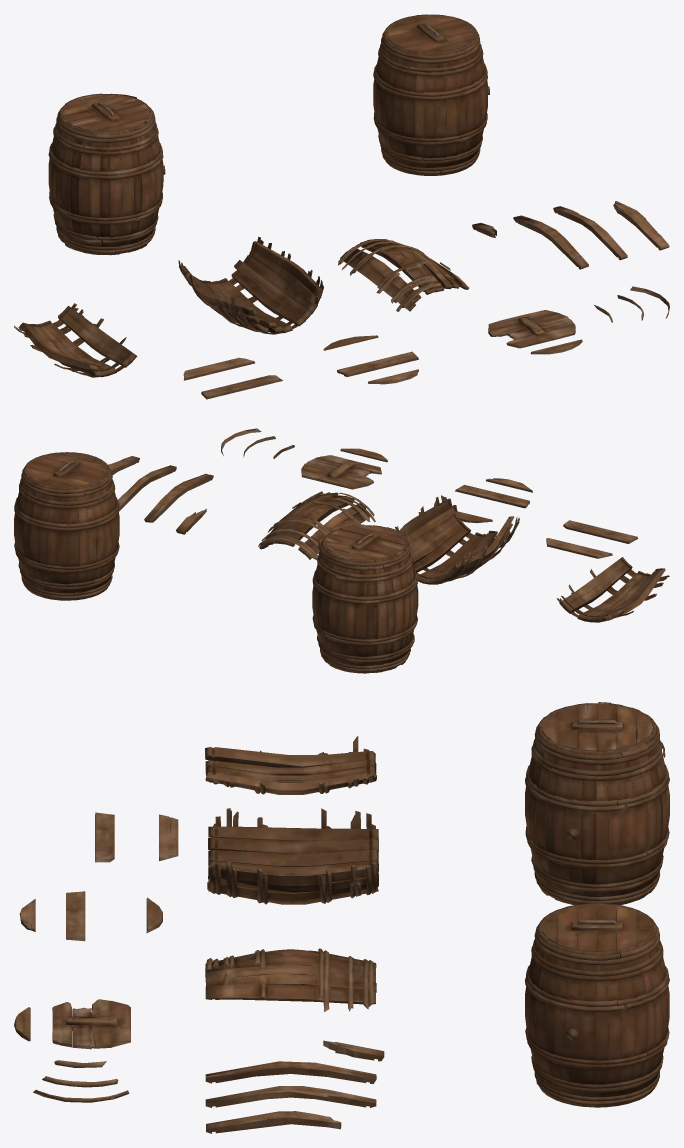
Rendered from wooden_barrels_01_lod1.glb.
3 views of the same model, one above another, from view 1: azimuth 30°, elevation 25°; view 2: azimuth 150°, elevation 25°; view 3: azimuth 270°, elevation 25° (orthographic). The views are drawn at different scales.
Visible parts, largest first — view 1: wooden_barrels_01_piece01, wooden_barrels_01_barrel02, wooden_barrels_01_barrel01; view 2: wooden_barrels_01_piece01, wooden_barrels_01_barrel02, wooden_barrels_01_barrel01; view 3: wooden_barrels_01_piece01, wooden_barrels_01_barrel01, wooden_barrels_01_barrel02.
Part boxes in pixels (<box>): wooden_barrels_01_piece01: <box>14,201,669,399</box>; wooden_barrels_01_barrel02: <box>48,93,165,255</box>; wooden_barrels_01_barrel01: <box>373,14,489,175</box>; wooden_barrels_01_piece01: <box>108,428,669,622</box>; wooden_barrels_01_barrel02: <box>312,524,418,673</box>; wooden_barrels_01_barrel01: <box>14,452,119,600</box>; wooden_barrels_01_piece01: <box>14,736,384,1133</box>; wooden_barrels_01_barrel01: <box>525,903,669,1107</box>; wooden_barrels_01_barrel02: <box>525,702,669,904</box>.
Bounding box in the file's own units: 4.44 × 0.9529 × 3.34.
Materials: 3 (3 with a texture image).
